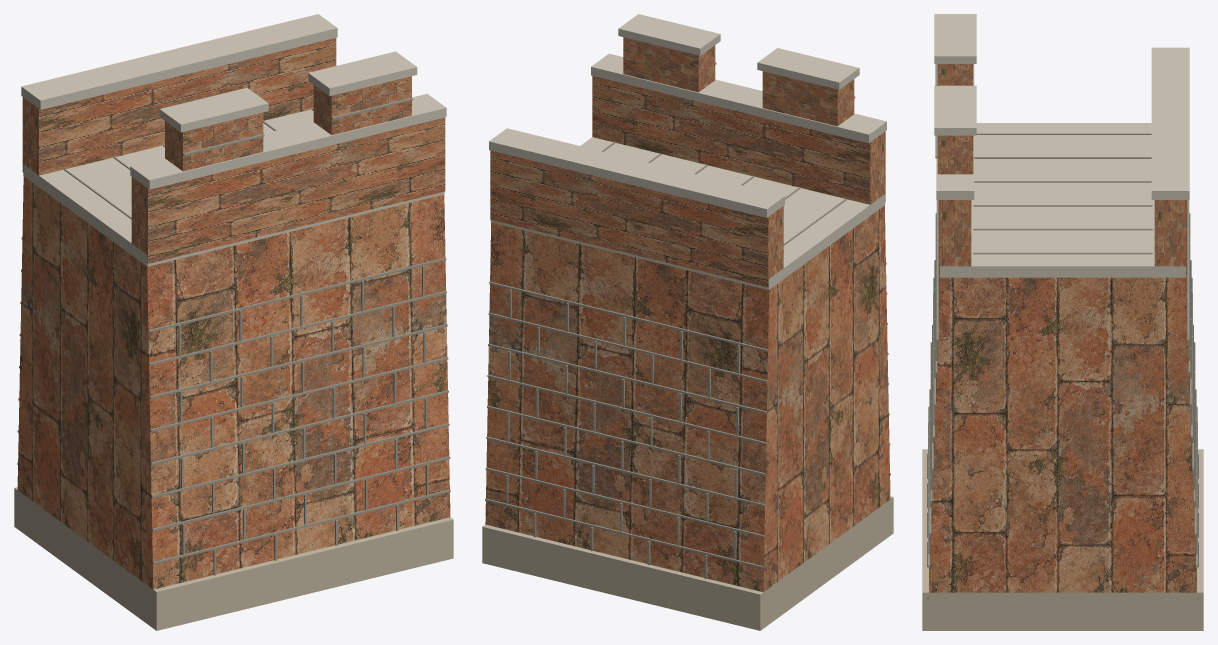
3 renders of one model, left to right at view 1: azimuth 30°, elevation 25°; view 2: azimuth 150°, elevation 25°; view 3: azimuth 270°, elevation 25°, orthographic. The views are drawn at different scales.
Parts seen in each view (by area): view 1: wall-section__painted_city_brick, wall-section__stone_cap, wall-section__warm_limestone, wall-section__mortar_ink; view 2: wall-section__painted_city_brick, wall-section__stone_cap, wall-section__warm_limestone, wall-section__mortar_ink; view 3: wall-section__painted_city_brick, wall-section__stone_cap, wall-section__warm_limestone, wall-section__mortar_ink.
Part boxes in pixels (x1,y1,x2,y2): wall-section__painted_city_brick: (17, 38, 450, 589); wall-section__stone_cap: (21, 14, 446, 266); wall-section__warm_limestone: (14, 487, 453, 630); wall-section__mortar_ink: (16, 97, 450, 597); wall-section__painted_city_brick: (485, 37, 890, 592); wall-section__stone_cap: (489, 14, 886, 289); wall-section__warm_limestone: (482, 496, 893, 630); wall-section__mortar_ink: (485, 62, 891, 599); wall-section__painted_city_brick: (929, 64, 1196, 592); wall-section__stone_cap: (934, 14, 1189, 277); wall-section__warm_limestone: (922, 449, 1203, 630); wall-section__mortar_ink: (927, 64, 1198, 599).
Size of the model in its own units: 4 by 6.36 by 3.32.
4 materials, 1 textured.
